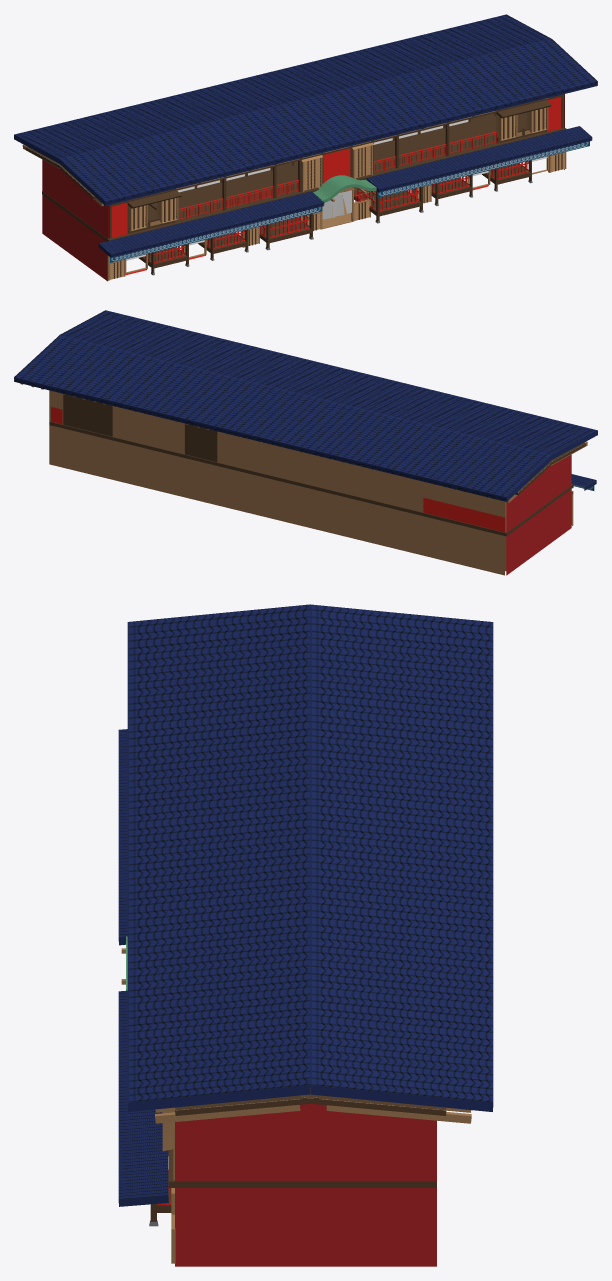
Rendered from yuukaku.fbx.
The picture shows the model from 3 angles, top to bottom: view 1: azimuth 30°, elevation 25°; view 2: azimuth 150°, elevation 25°; view 3: azimuth 270°, elevation 25°; orthographic projection. The views are drawn at different scales.
Parts seen in each view (by area): view 1: roof3, second1, firast1, wall, entrance, nolen; view 2: roof3, wall, second1; view 3: roof3, wall, second1.
Boxes of the visible parts, x1,y1,x2,y2 form: roof3: (14,14,597,262); second1: (42,94,566,241); firast1: (107,152,566,280); wall: (42,94,564,281); entrance: (298,175,376,230); nolen: (322,190,351,219); roof3: (14,310,597,503); wall: (49,390,571,575); second1: (49,394,573,536); roof3: (118,604,493,1206); wall: (175,1103,436,1266); second1: (162,1111,436,1187).
Size of the model in its own units: 5725 by 1133 by 1887.
